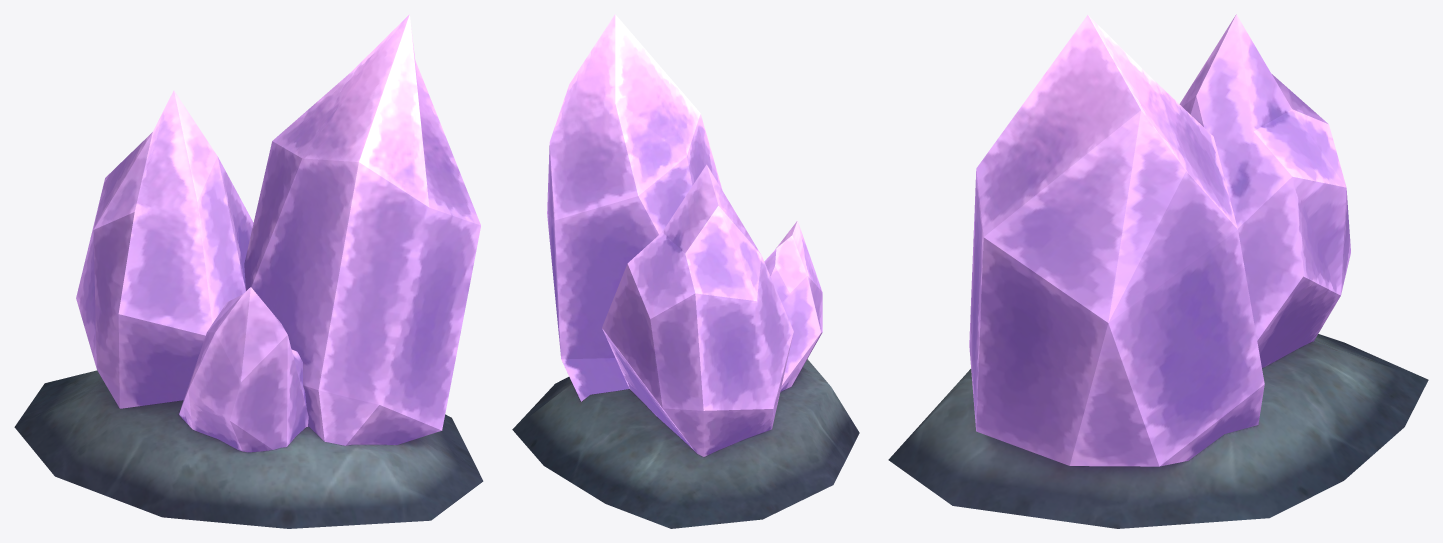
The model's file is largeCrystal.gltf.
3 renders of one model, left to right at view 1: azimuth 30°, elevation 25°; view 2: azimuth 150°, elevation 25°; view 3: azimuth 270°, elevation 25°, orthographic. The views are drawn at different scales.
Parts seen in each view (by area): view 1: defaultMaterial.001; view 2: defaultMaterial.001; view 3: defaultMaterial.001.
Part boxes in pixels (x1=…): defaultMaterial.001: x1=14, y1=14, x2=483, y2=528; defaultMaterial.001: x1=512, y1=14, x2=859, y2=528; defaultMaterial.001: x1=888, y1=14, x2=1428, y2=528.
Bounding box in the file's own units: 55.53 × 61.03 × 61.81.
Materials: 1 (1 with a texture image).
